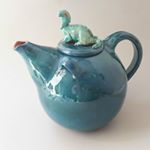other: (10, 7, 144, 133)
